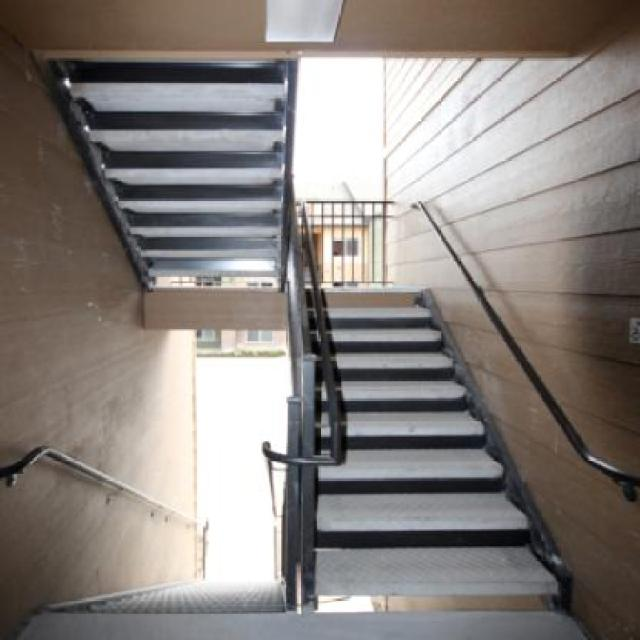stair: (238, 165, 604, 637)
